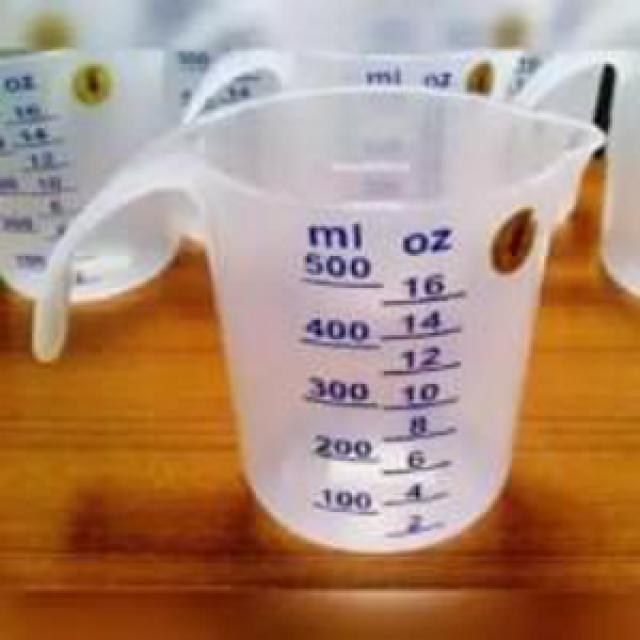plastic cup: (28, 83, 610, 563)
